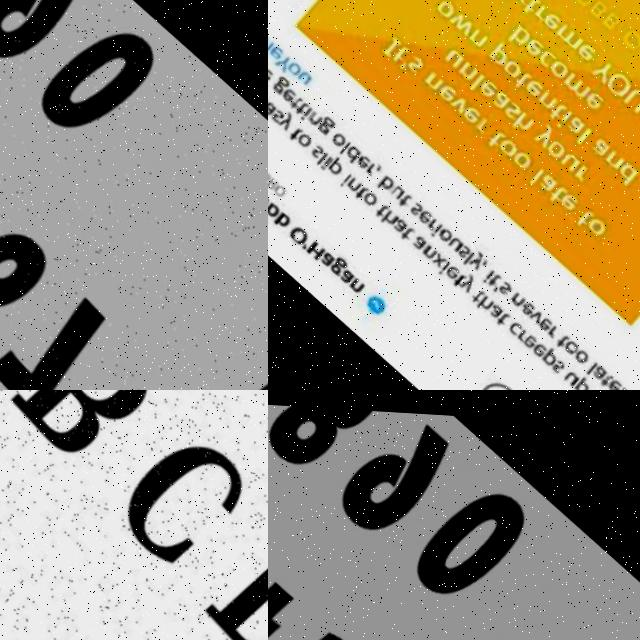0: (6, 0, 183, 169), (389, 450, 550, 626)
6: (0, 178, 75, 378)
7: (0, 251, 146, 390)
8: (268, 400, 402, 497)
9: (322, 404, 481, 555), (0, 0, 116, 91)
A: (563, 107, 585, 131), (588, 129, 610, 153), (536, 166, 557, 188), (490, 85, 511, 106), (408, 228, 428, 249), (485, 295, 504, 315), (317, 247, 335, 266), (390, 211, 408, 230), (337, 265, 355, 283), (589, 358, 606, 376), (268, 96, 277, 115)
B: (507, 20, 531, 45), (269, 208, 291, 231), (600, 4, 619, 25), (374, 170, 393, 190), (586, 0, 608, 14), (268, 198, 281, 221)
C: (536, 42, 557, 64), (505, 315, 522, 332)
D: (612, 154, 638, 181), (342, 141, 361, 161)
E: (574, 33, 597, 58), (521, 71, 543, 96), (476, 71, 498, 95), (582, 84, 604, 108), (539, 4, 561, 28), (436, 78, 458, 101), (459, 99, 481, 122), (557, 185, 579, 208), (523, 30, 545, 53), (604, 370, 623, 389), (528, 335, 546, 354), (279, 83, 297, 102), (534, 309, 552, 327), (443, 260, 460, 278), (519, 327, 536, 345), (353, 150, 370, 168), (415, 204, 432, 222), (518, 294, 535, 312), (268, 41, 283, 59), (268, 64, 273, 82)
G: (325, 251, 348, 275), (269, 72, 291, 95), (315, 112, 335, 134)
H: (510, 106, 534, 130), (303, 237, 325, 261), (474, 290, 494, 312), (378, 206, 397, 226)
I: (554, 102, 573, 124), (381, 34, 400, 55), (480, 263, 494, 280), (337, 169, 351, 185), (435, 257, 449, 273), (429, 218, 442, 234), (300, 104, 312, 118), (318, 153, 330, 166)
L: (527, 162, 543, 181), (575, 121, 590, 139), (468, 69, 482, 86), (461, 248, 474, 263), (583, 356, 596, 371), (315, 149, 327, 163), (338, 138, 350, 152)
M: (561, 65, 591, 95), (553, 16, 582, 46), (268, 27, 273, 50)
N: (421, 66, 444, 90), (455, 55, 478, 79), (602, 142, 625, 166), (535, 83, 558, 106), (465, 22, 487, 46), (346, 273, 364, 292), (419, 239, 437, 258), (304, 107, 322, 126), (507, 285, 525, 304), (345, 173, 362, 191)
O: (603, 62, 634, 94), (543, 132, 567, 157), (546, 52, 570, 77), (496, 131, 519, 155), (510, 142, 533, 166), (584, 209, 607, 233), (499, 51, 522, 75), (285, 222, 308, 246), (620, 21, 640, 45), (432, 0, 457, 18), (433, 220, 453, 241), (560, 331, 580, 352), (569, 340, 589, 361), (294, 128, 312, 147), (328, 128, 346, 147), (285, 58, 303, 77), (270, 180, 288, 198), (360, 186, 377, 205), (584, 384, 604, 390)
P: (486, 36, 512, 64), (538, 340, 560, 363), (571, 369, 592, 390), (326, 153, 345, 173)
R: (471, 111, 491, 131), (572, 158, 591, 178), (531, 0, 548, 16), (424, 213, 438, 228), (545, 320, 559, 334), (516, 324, 528, 337), (364, 160, 376, 173), (268, 174, 277, 189)
S: (500, 95, 523, 118), (404, 51, 426, 74), (308, 140, 325, 157), (409, 197, 424, 214), (270, 106, 284, 121), (456, 239, 470, 254), (496, 275, 510, 290), (549, 354, 563, 368)
T: (572, 201, 594, 224), (545, 95, 567, 118), (389, 40, 410, 63), (486, 124, 505, 145), (512, 64, 531, 85), (548, 179, 566, 199), (468, 282, 485, 301), (351, 181, 368, 199), (394, 188, 411, 206), (286, 123, 302, 141), (372, 199, 388, 217), (450, 267, 466, 285), (493, 305, 509, 323), (286, 92, 302, 110), (553, 327, 569, 345), (398, 221, 414, 238), (485, 267, 501, 284), (293, 98, 308, 114), (597, 366, 612, 382), (519, 0, 540, 11)
U: (621, 78, 640, 109), (558, 145, 581, 169), (443, 43, 464, 65), (561, 364, 578, 382), (388, 179, 405, 197), (446, 230, 463, 248), (295, 67, 312, 85)
V: (447, 88, 469, 111), (526, 302, 544, 321)
W: (447, 7, 475, 35)
X: (428, 246, 448, 267)
Y: (532, 116, 557, 144), (590, 53, 615, 79), (457, 268, 478, 291), (276, 109, 296, 130), (272, 50, 292, 71), (466, 246, 485, 267)
